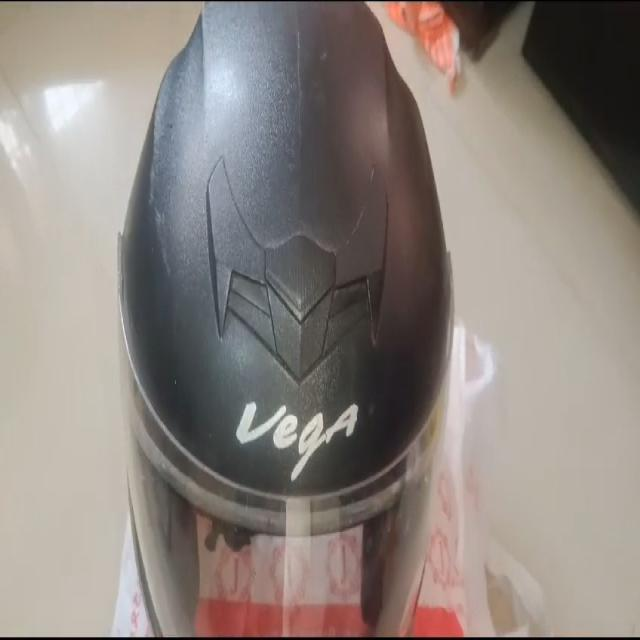Helmet: (118, 3, 467, 624)
